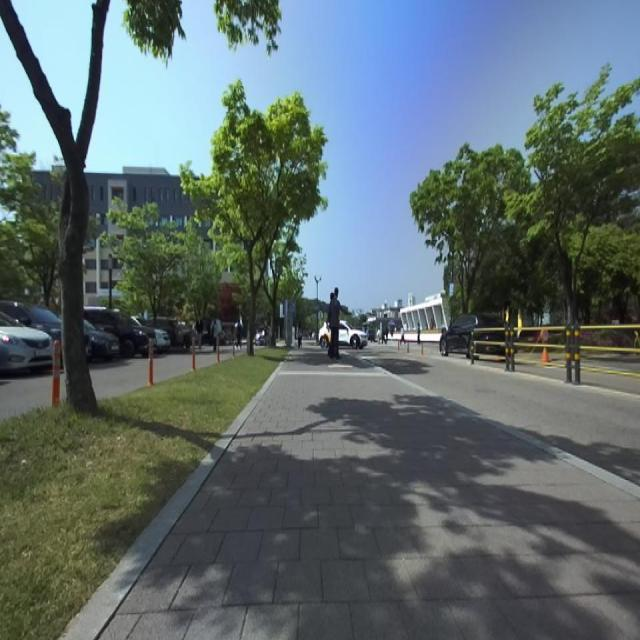sidewalk: (96, 348, 640, 640)
